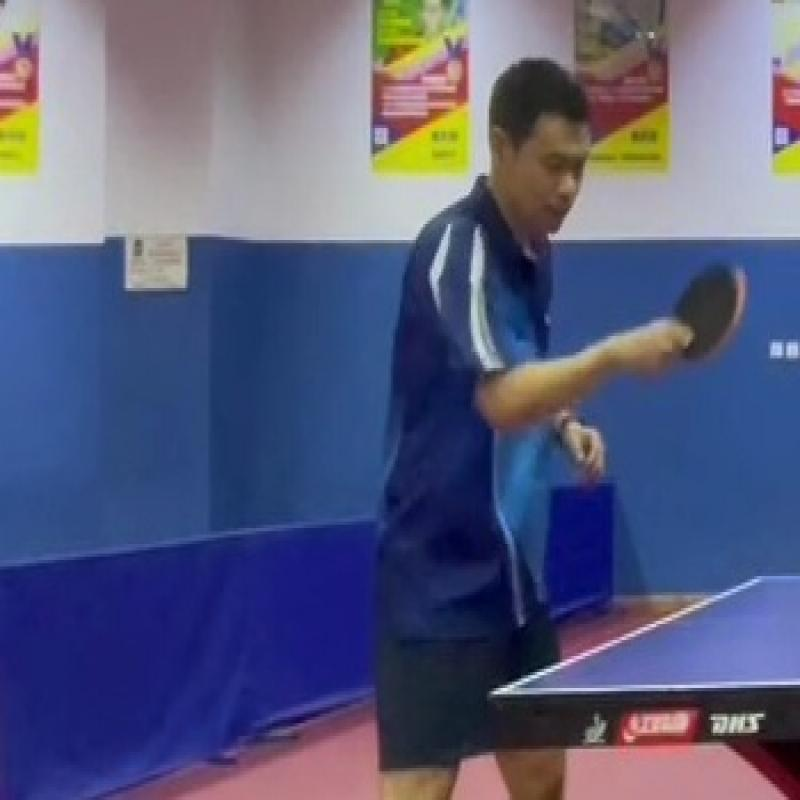bats: (668, 256, 757, 373)
